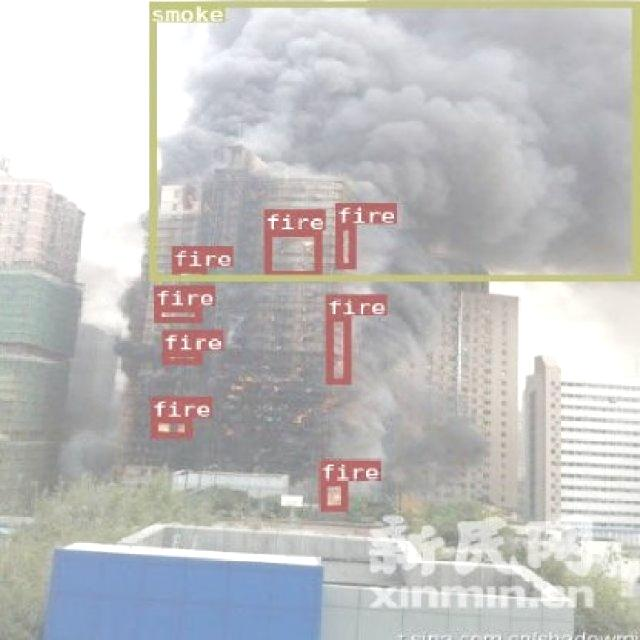fire: (262, 230, 320, 276), (325, 315, 350, 383), (333, 223, 355, 268), (318, 480, 346, 511), (151, 416, 191, 436), (152, 305, 200, 321), (160, 350, 200, 364), (170, 266, 204, 280)
smoke: (149, 0, 636, 278)
